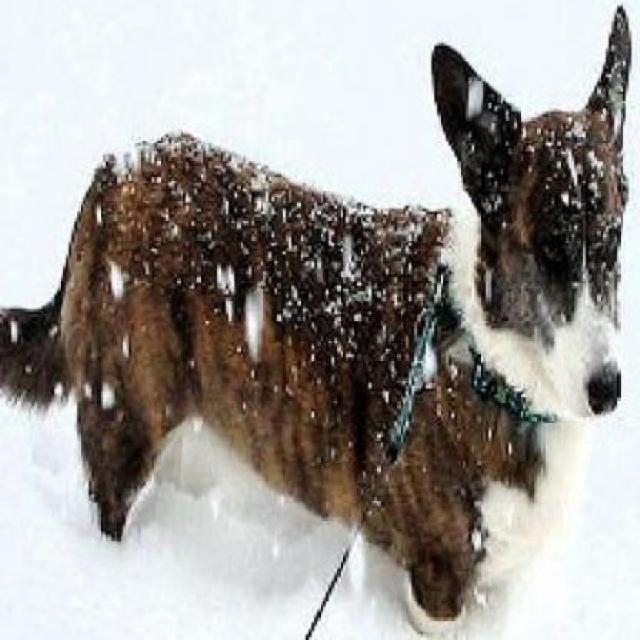Dog: (7, 6, 636, 639)
